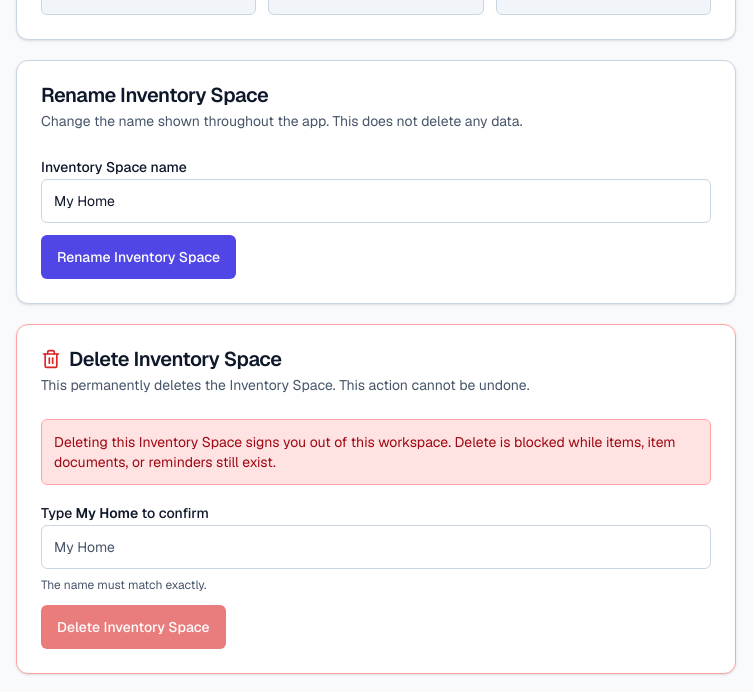
Scenario: InventorySpaceSettingsForm › blocks delete button until typed confirmation exactly matches
This screenshot has width=753, height=692.
(page scrolled)
Expected: the button "Delete Inventory Space" is disabled, [41,605,226,649]
Type "my home" into the field labelled "Type My Home to confirm" at (376, 547), box [41,525,711,569]
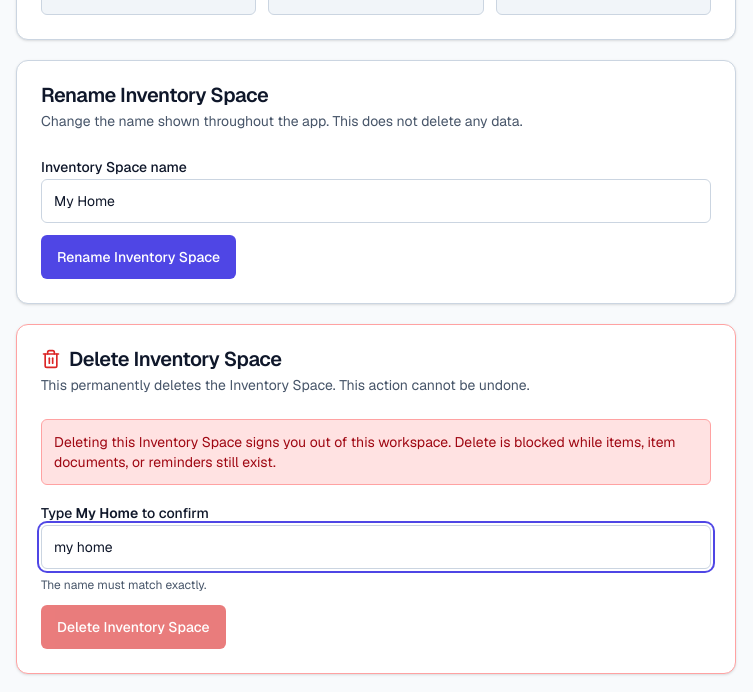
Expected: the button "Delete Inventory Space" is disabled, [41,605,226,649]
Replace the text in the field labelled "Type My Home to confirm" with "My Home" at (376, 547), box [41,525,711,569]
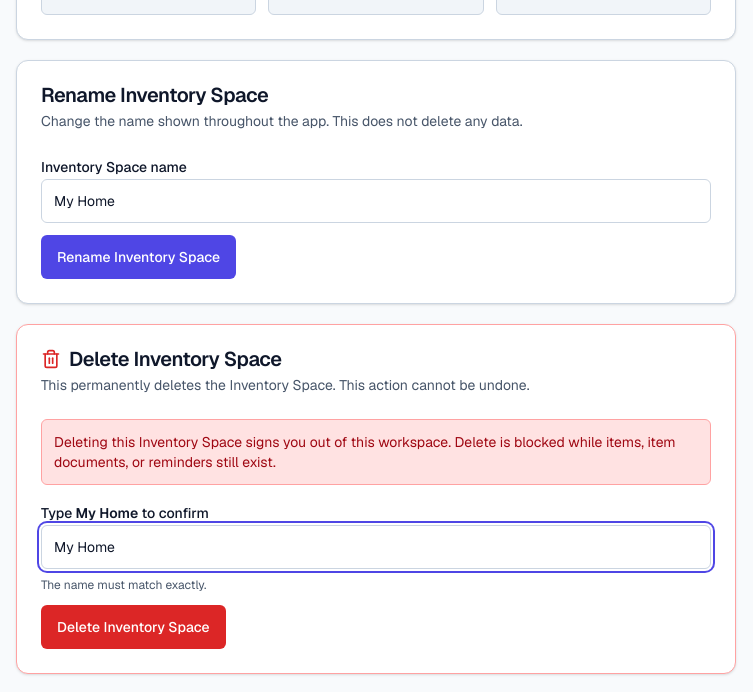
Expected: the button "Delete Inventory Space" is enabled, [41,605,226,649]
